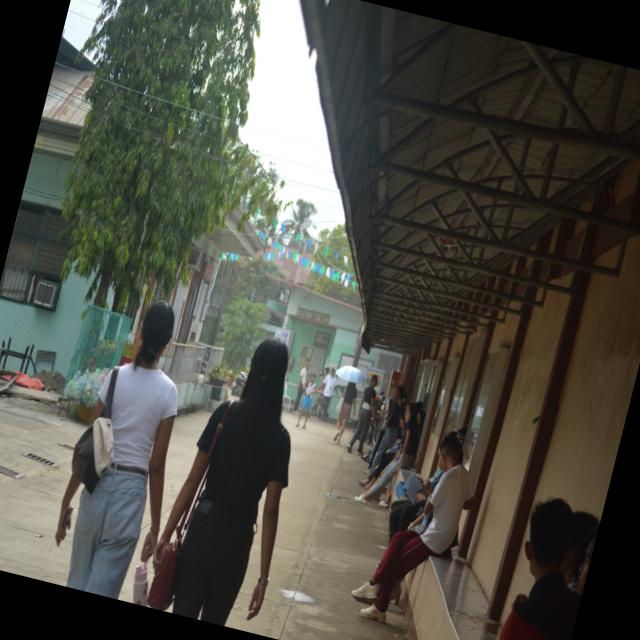person: (153, 339, 289, 625), (66, 301, 176, 597), (351, 437, 472, 622), (500, 499, 580, 639), (560, 511, 599, 591), (346, 375, 377, 455), (333, 382, 356, 443), (295, 374, 315, 428), (292, 361, 309, 413), (320, 369, 336, 420)
